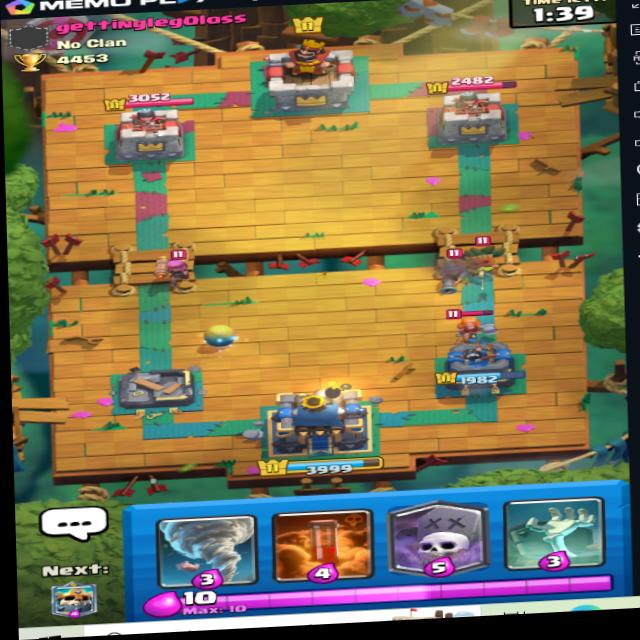dart-goblin: (464, 230, 514, 282)
firecracker: (153, 243, 191, 287)
musketeer: (427, 242, 472, 293)
valkyrie: (436, 301, 506, 349)
